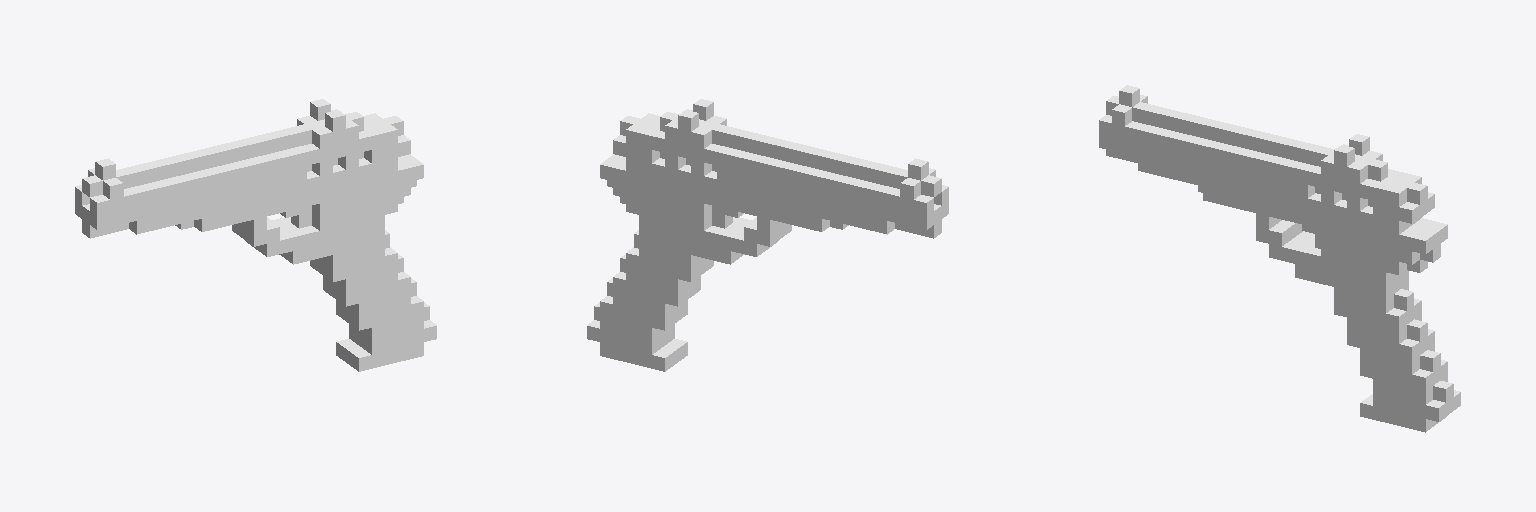
File: SC_Pistol.obj
3 views of the same model, side by side, from view 1: azimuth 30°, elevation 25°; view 2: azimuth 150°, elevation 25°; view 3: azimuth 330°, elevation 25° (orthographic).
Size of the model in its own units: 26 by 19 by 3.